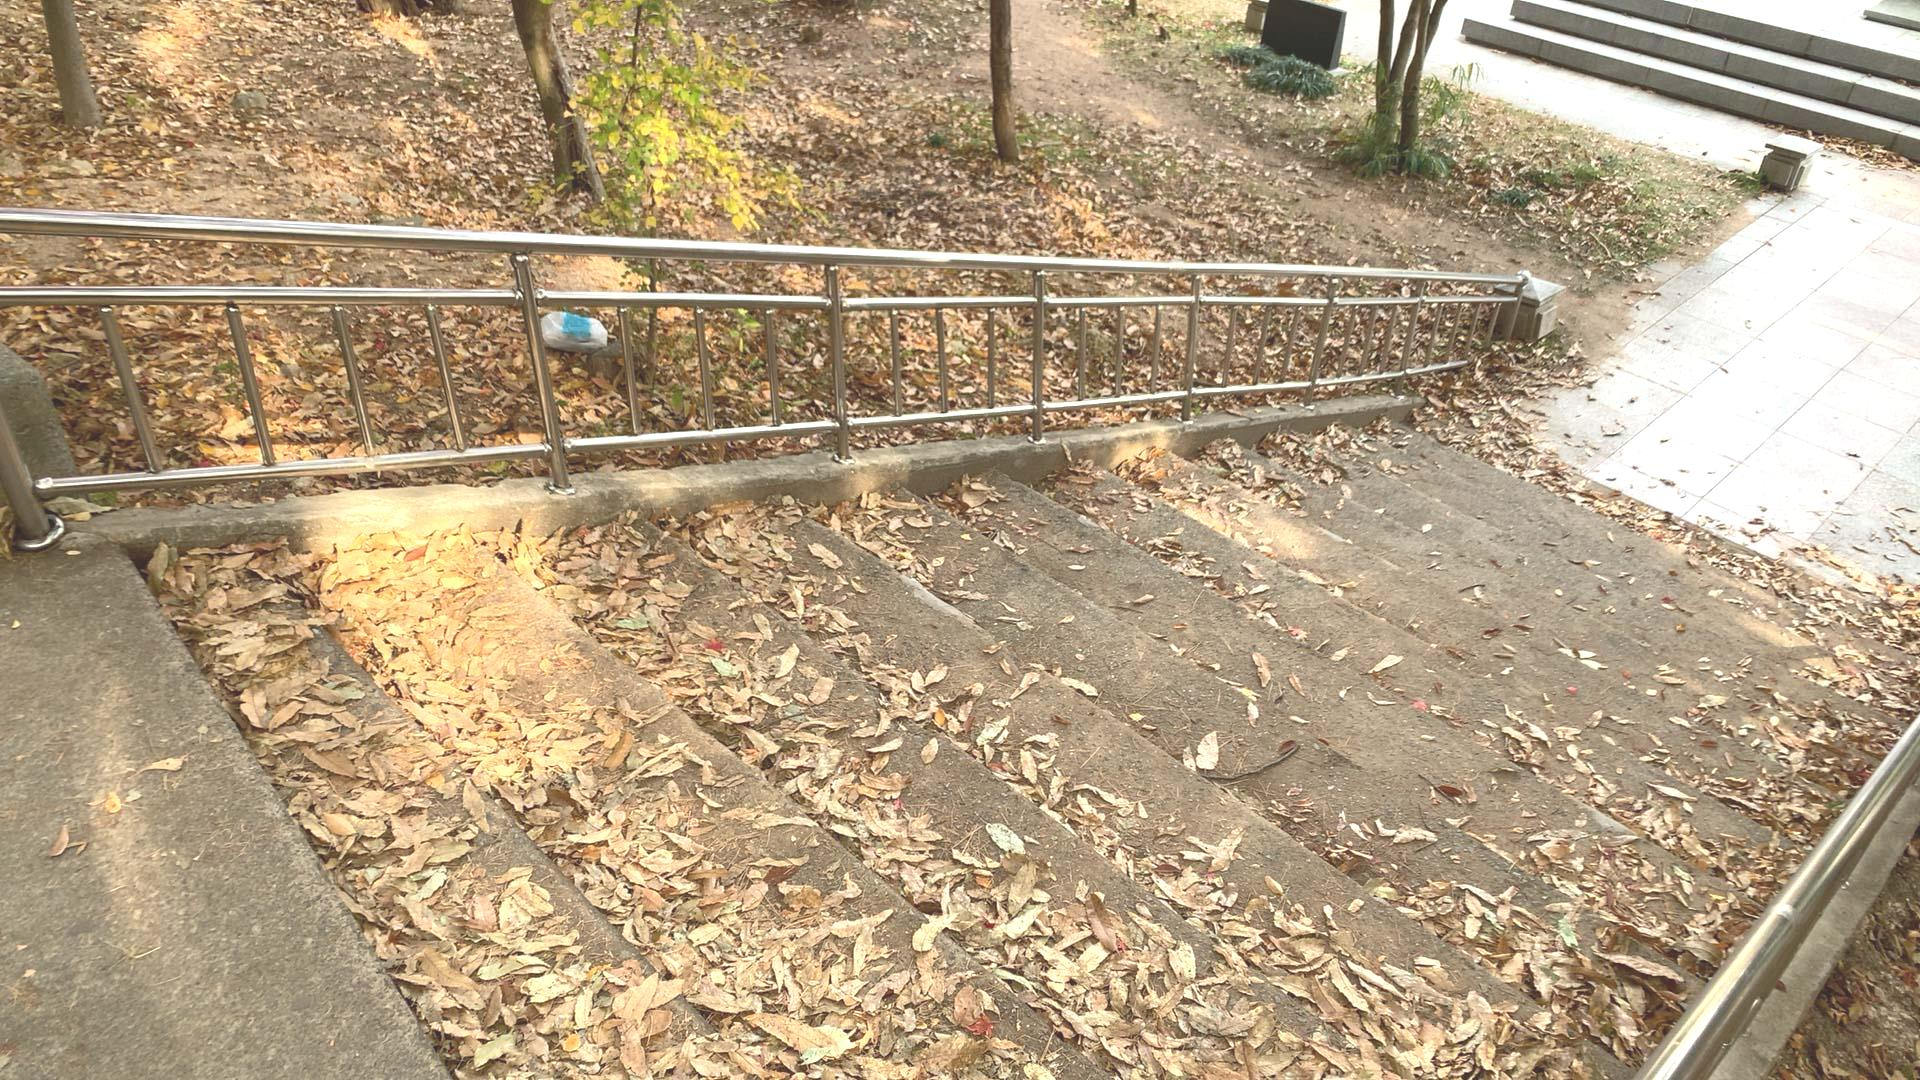white_bag: (533, 307, 615, 353)
